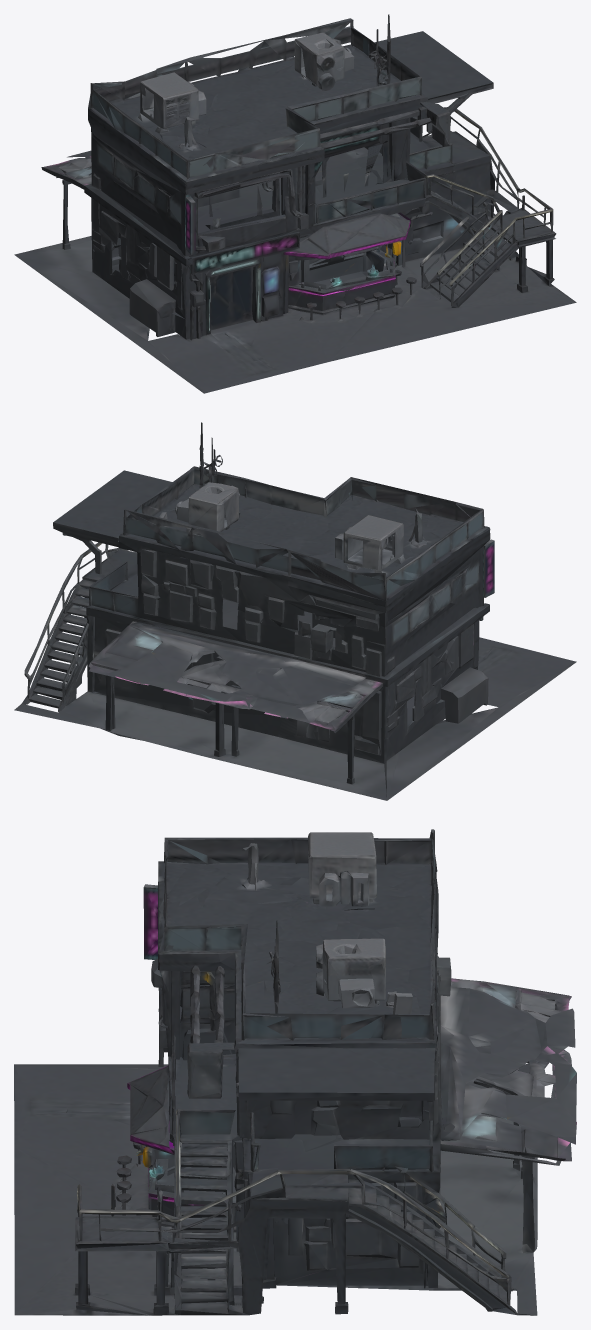
File: Meshy_AI_Modular_NeoRamen_Faca_1103002322_texture.fbx
3 views of the same model, one above another, from view 1: azimuth 30°, elevation 25°; view 2: azimuth 150°, elevation 25°; view 3: azimuth 270°, elevation 25° (orthographic). The views are drawn at different scales.
Parts seen in each view (by area): view 1: output_unwrapped; view 2: output_unwrapped; view 3: output_unwrapped.
Part boxes in pixels (x1,y1,x2,y2): output_unwrapped: (14,14,576,393); output_unwrapped: (14,422,576,800); output_unwrapped: (14,829,576,1315).
Bounding box in the file's own units: 1458 × 900 × 1376.
1 material, 1 textured.
